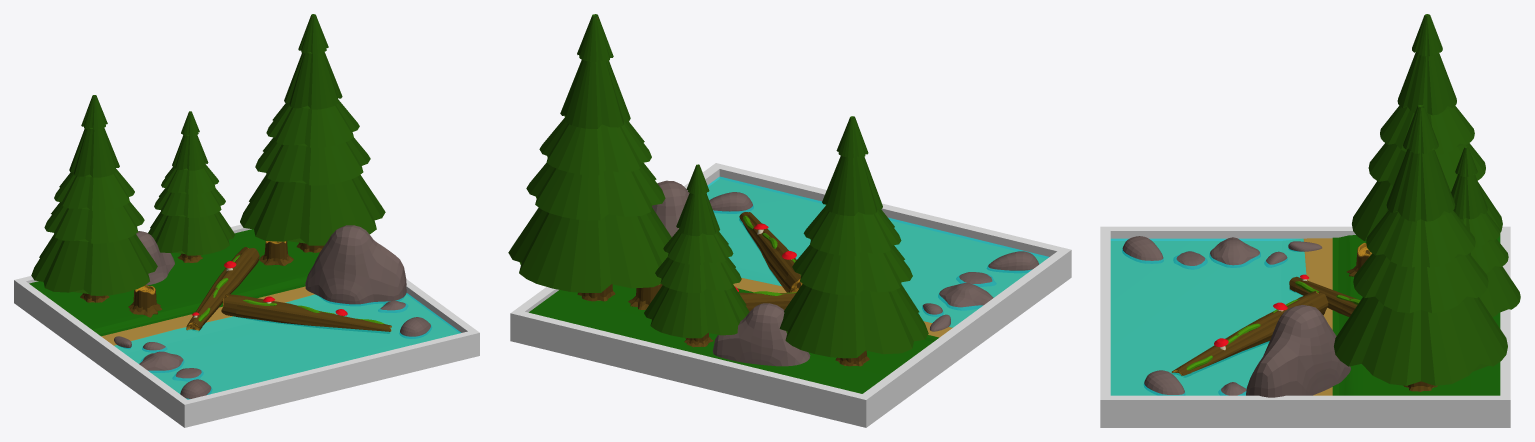
The model's file is Animal Habitat Beever with tree trunks.fbx.
The picture shows the model from 3 angles, left to right: view 1: azimuth 30°, elevation 25°; view 2: azimuth 150°, elevation 25°; view 3: azimuth 270°, elevation 25°; orthographic projection. The views are drawn at different scales.
Parts seen in each view (by area): view 1: Cylinder.003, Cube.001, Cube.002, Cube, Cylinder.005, Cube.003, Cylinder.007, Cube.012, Cylinder.015, Cylinder.009, Cube.014, Cylinder.001 (+4 smaller); view 2: Cylinder.003, Cube, Cylinder.005, Cube.002, Cube.001, Cylinder.007, Cube.003, Cube.014, Cylinder.015, Cube.012, Cube.007, Cube.006 (+2 smaller); view 3: Cylinder.003, Cube.002, Cube.001, Cube, Cylinder.005, Cube.012, Cube.003, Cylinder.007, Cylinder.015, Cube.007, Cylinder.009, Cube.006 (+2 smaller).
Boxes of the visible parts, bbox=[...] form: Cylinder.003: bbox=[240, 14, 385, 245]; Cube.001: bbox=[101, 286, 458, 393]; Cube.002: bbox=[114, 293, 461, 399]; Cube: bbox=[14, 224, 479, 427]; Cylinder.005: bbox=[31, 95, 157, 295]; Cube.003: bbox=[29, 229, 319, 336]; Cylinder.007: bbox=[148, 111, 235, 255]; Cube.012: bbox=[305, 225, 406, 305]; Cylinder.015: bbox=[221, 294, 391, 333]; Cylinder.009: bbox=[186, 247, 259, 331]; Cube.014: bbox=[136, 231, 174, 285]; Cylinder.001: bbox=[128, 285, 161, 317]; Cylinder.003: bbox=[508, 14, 671, 292]; Cube: bbox=[510, 163, 1071, 427]; Cylinder.005: bbox=[779, 116, 928, 358]; Cube.002: bbox=[706, 176, 1049, 327]; Cube.001: bbox=[707, 179, 1045, 337]; Cylinder.007: bbox=[644, 164, 749, 338]; Cube.003: bbox=[529, 284, 938, 393]; Cube.014: bbox=[712, 303, 810, 366]; Cylinder.015: bbox=[739, 212, 802, 292]; Cube.012: bbox=[652, 180, 689, 236]; Cube.007: bbox=[938, 283, 993, 310]; Cube.006: bbox=[987, 251, 1038, 272]; Cylinder.003: bbox=[1334, 105, 1507, 385]; Cube.002: bbox=[1110, 238, 1306, 395]; Cube.001: bbox=[1111, 238, 1332, 395]; Cube: bbox=[1100, 226, 1510, 427]; Cylinder.005: bbox=[1352, 14, 1502, 241]; Cube.012: bbox=[1246, 305, 1350, 397]; Cube.003: bbox=[1332, 235, 1500, 395]; Cylinder.007: bbox=[1451, 146, 1520, 317]; Cylinder.015: bbox=[1171, 291, 1328, 377]; Cube.007: bbox=[1209, 237, 1260, 267]; Cylinder.009: bbox=[1289, 276, 1358, 316]; Cube.006: bbox=[1122, 236, 1163, 263].
Bounding box in the file's own units: 6777 × 4878 × 6149.
